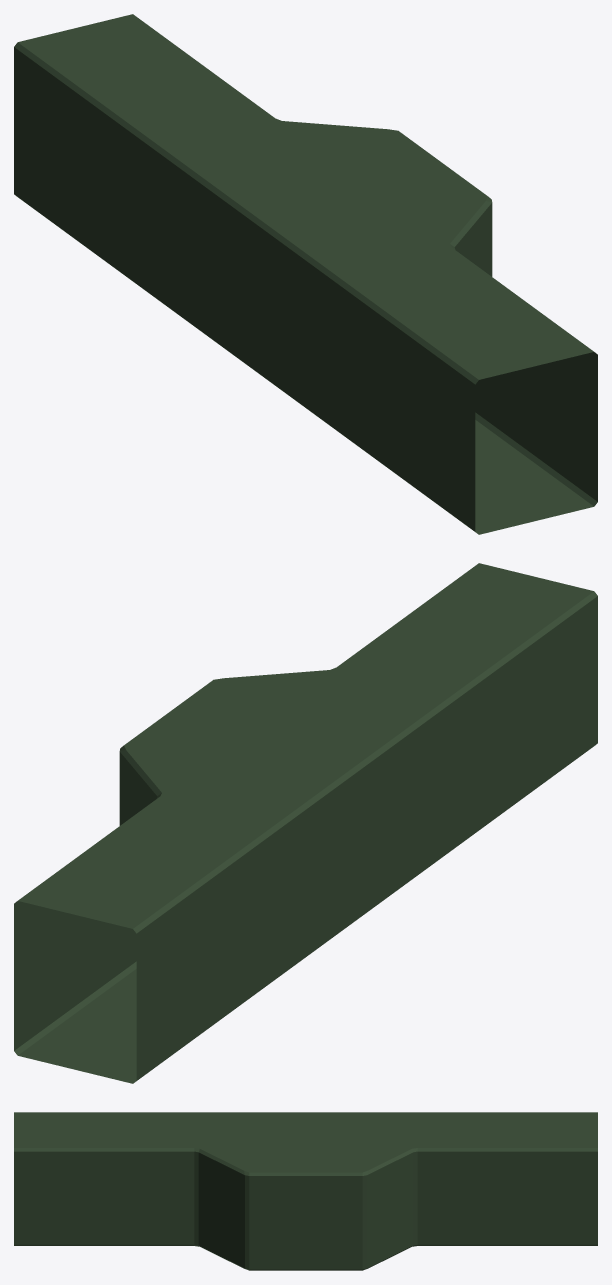
Rendered from Corridor_1.fbx.
The picture shows the model from 3 angles, top to bottom: view 1: azimuth 30°, elevation 25°; view 2: azimuth 150°, elevation 25°; view 3: azimuth 270°, elevation 25°; orthographic projection. The views are drawn at different scales.
Parts seen in each view (by area): view 1: Corridor; view 2: Corridor; view 3: Corridor.
Boxes of the visible parts, x1=… form: Corridor: x1=14, y1=14, x2=597, y2=534; Corridor: x1=14, y1=563, x2=597, y2=1083; Corridor: x1=14, y1=1112, x2=597, y2=1270.
Bounding box in the file's own units: 258 × 189 × 1020.
